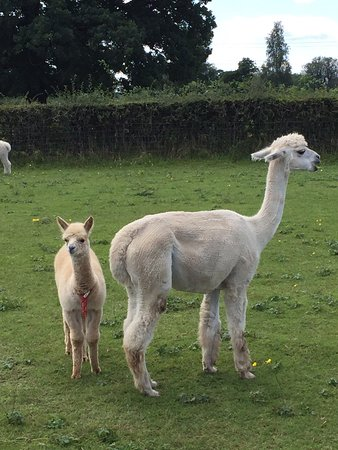alpaca: (108, 131, 322, 397), (52, 214, 106, 379)
